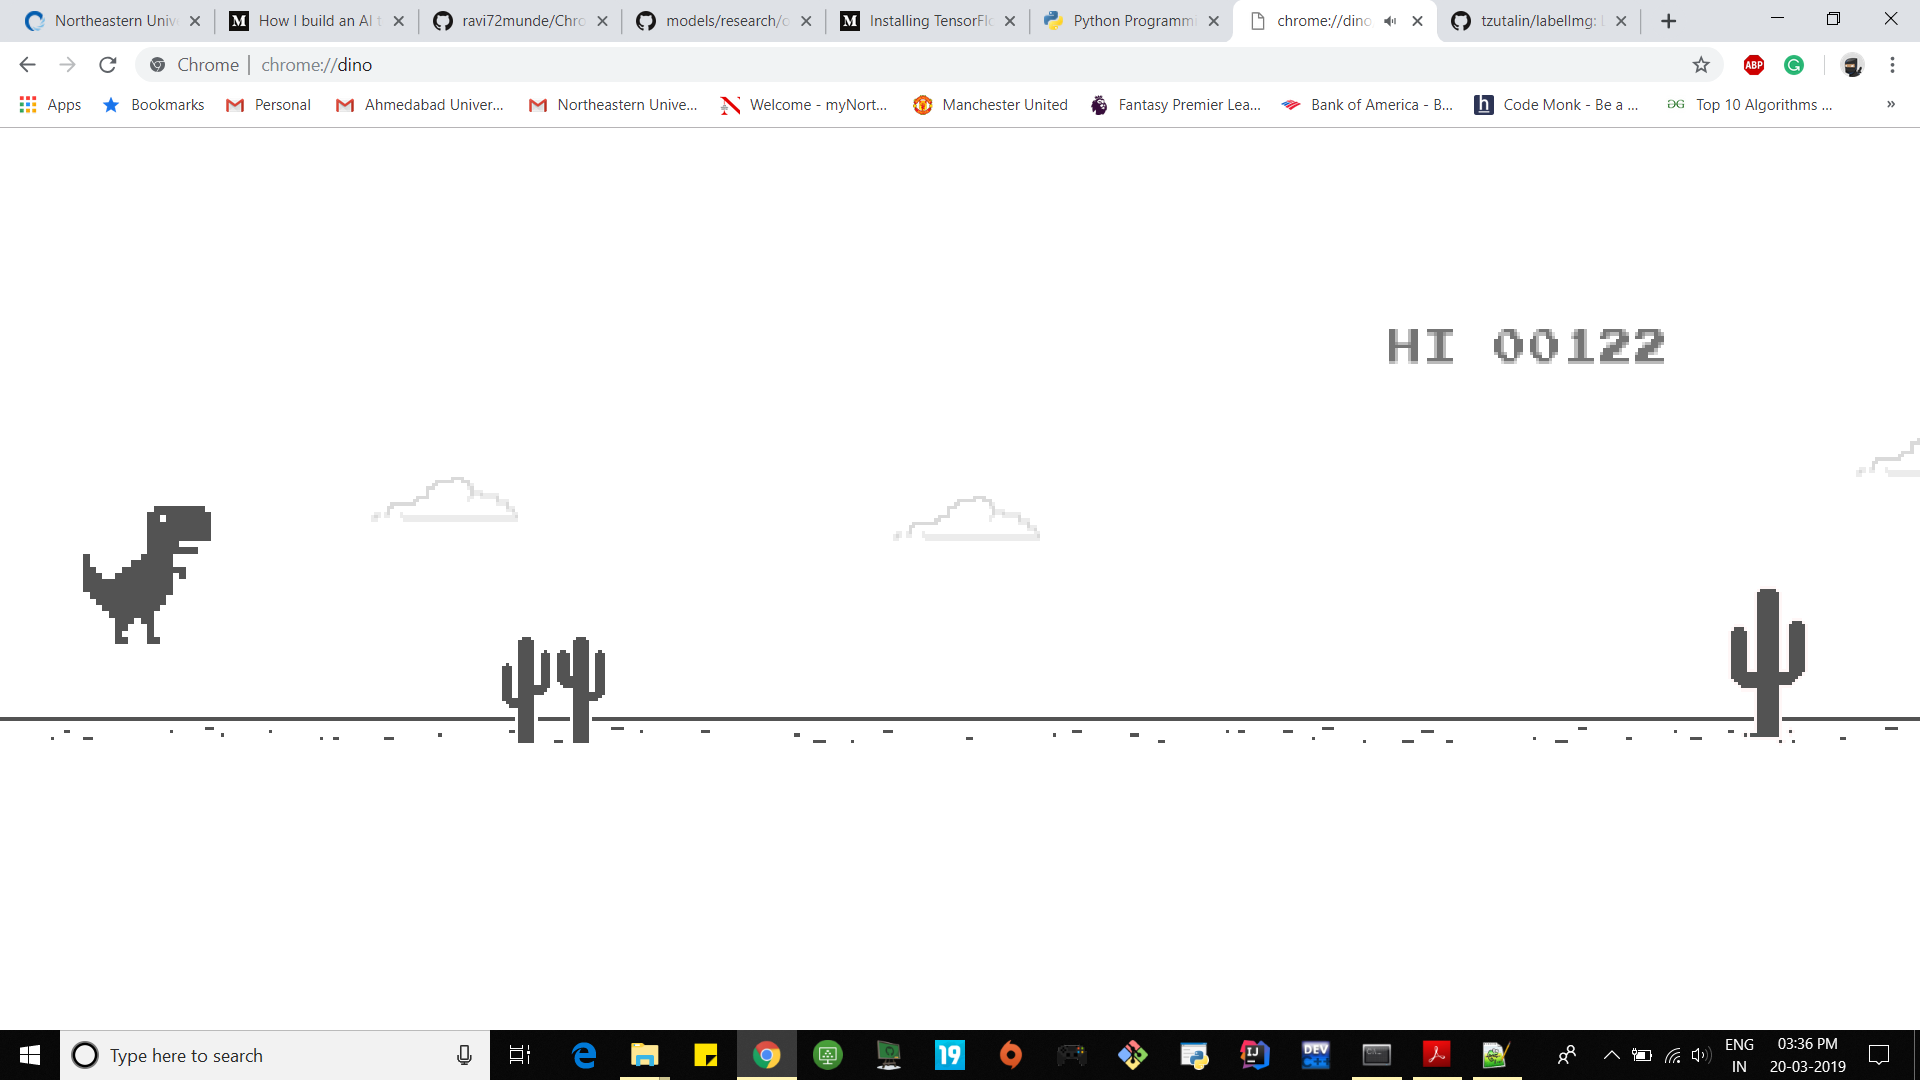cactus-1: (1730, 588, 1803, 736)
cactus-2: (500, 636, 607, 740)
dino: (80, 504, 214, 644)
